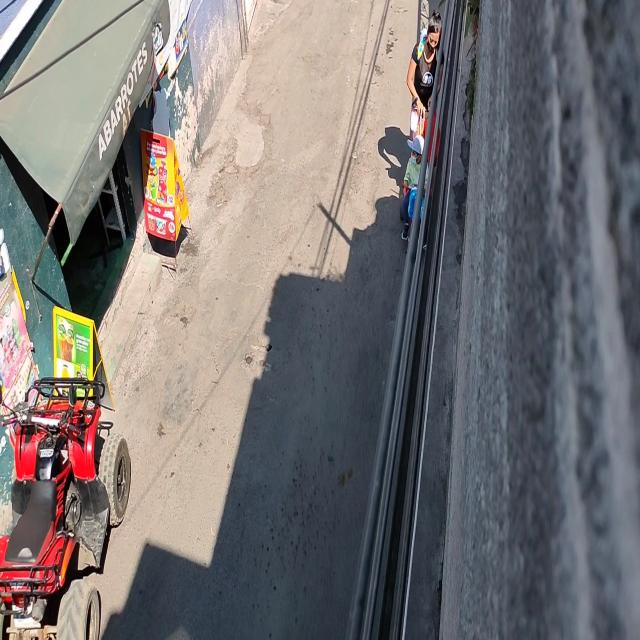adult: (405, 12, 445, 172)
child: (398, 134, 432, 251)
